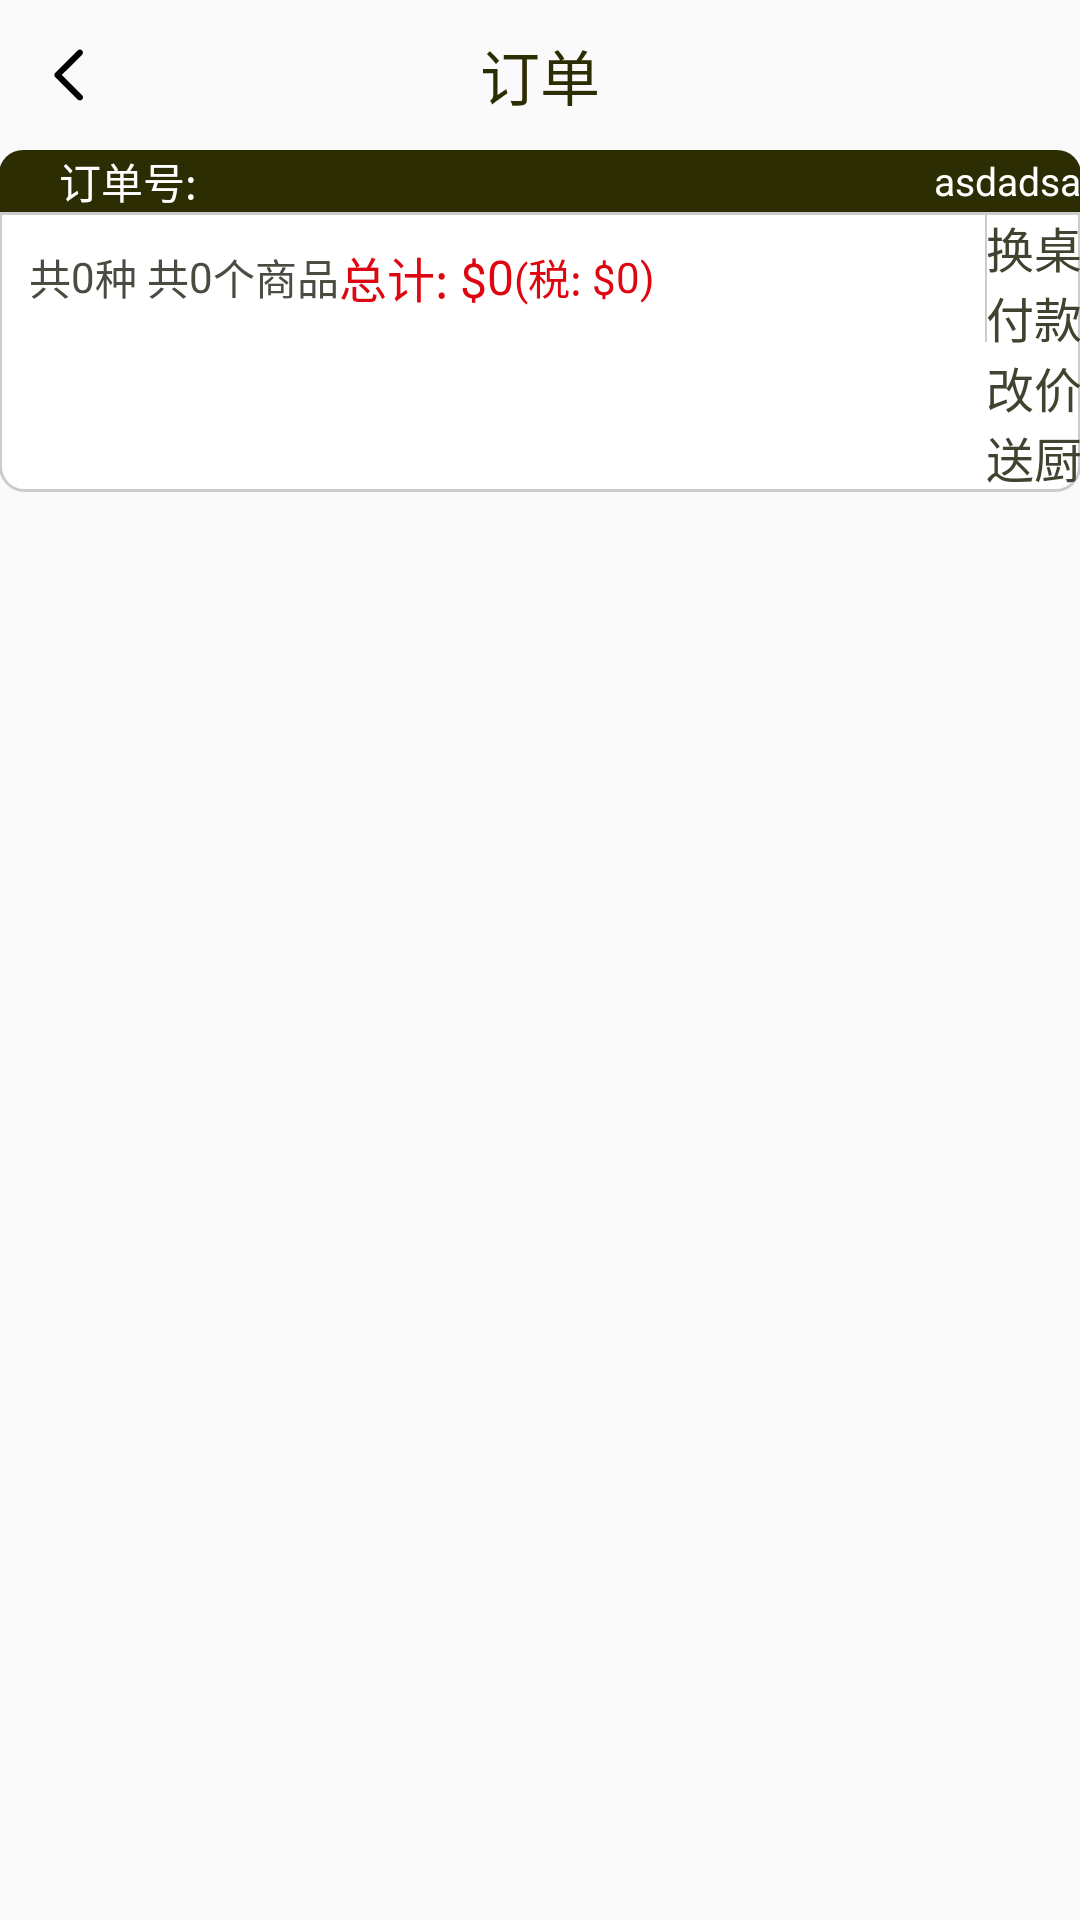

Locate icon controls on the screen. Image size 1080*1920, boxes as detection(x1, y1, x2, y2).
back: detection(54, 49, 83, 101)
